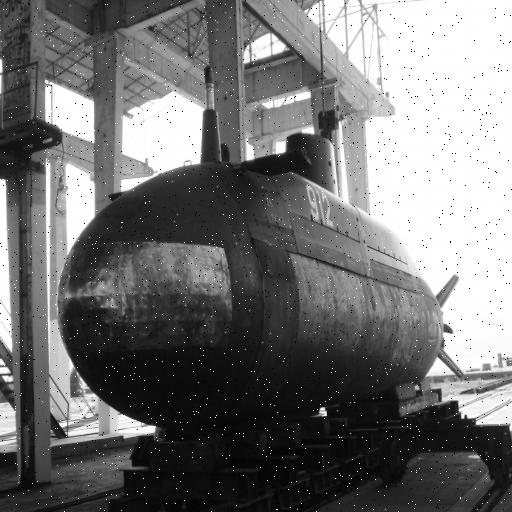submarine: (50, 76, 471, 448)
